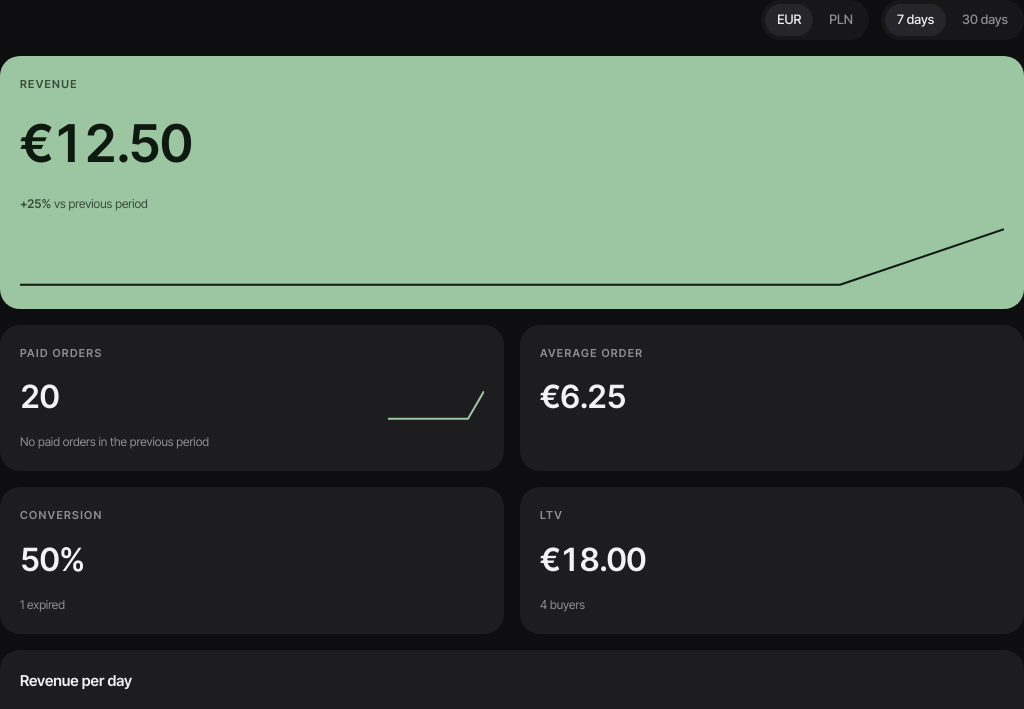
it: Dashboard › refetches in PLN when the currency tab is switched and never shows EUR numbers as PLN
Press the mouse on the tab "PLN" at point(841, 20), box [817, 4, 865, 36]
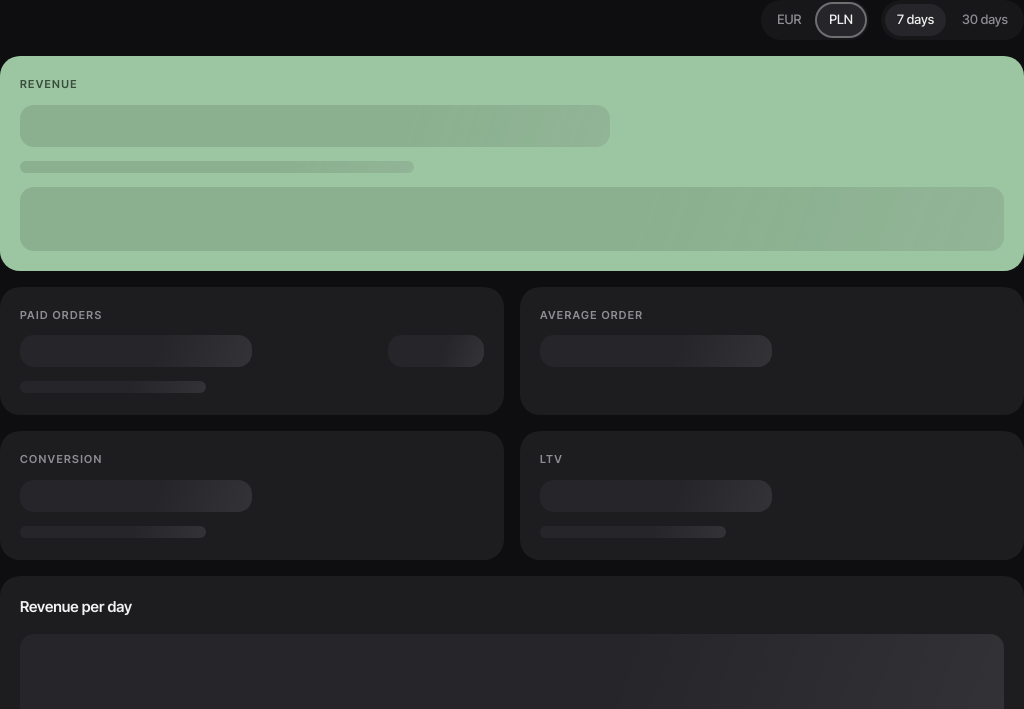
Click the tab "PLN" at point(841, 20), box [817, 4, 865, 36]
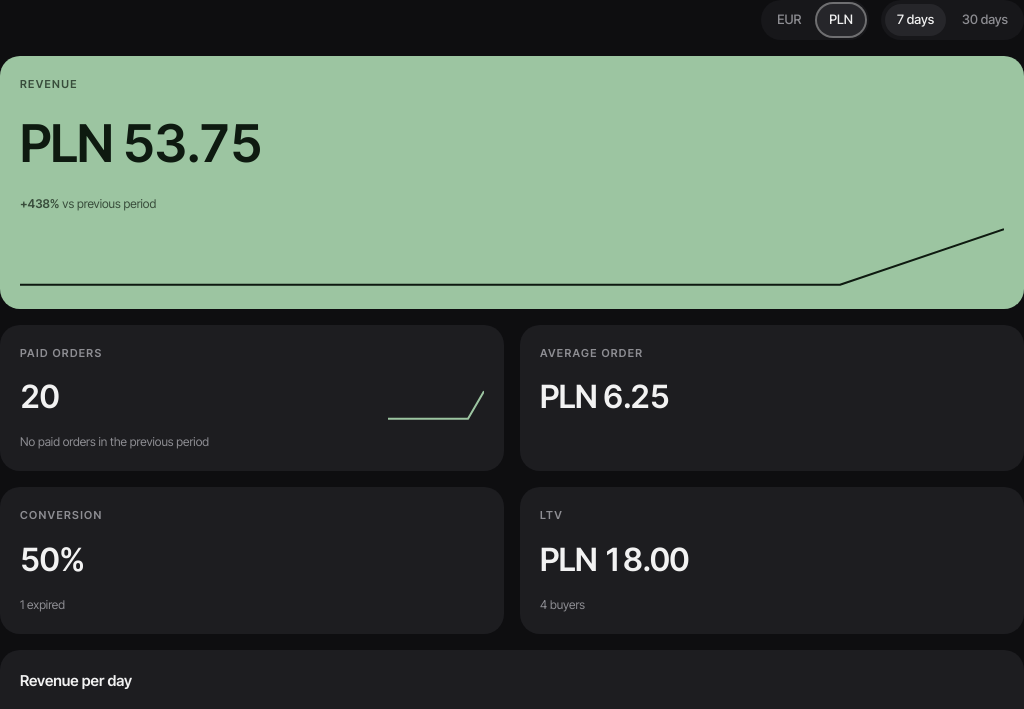
Check: the element "Revenue" does not show "€", box [0, 56, 1023, 308]
Check: the element "Revenue" reads "Revenue +438% vs previous period", box [0, 56, 1023, 308]
